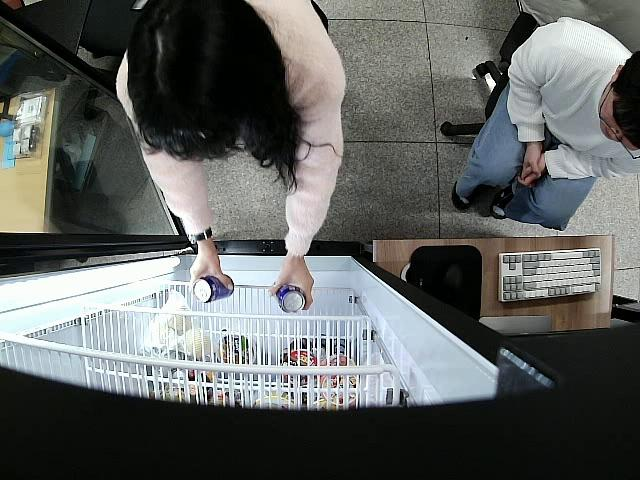00_hand: (269, 258, 315, 312), (187, 250, 233, 291)
14_welchsGrape: (191, 275, 235, 305), (277, 281, 306, 316)
